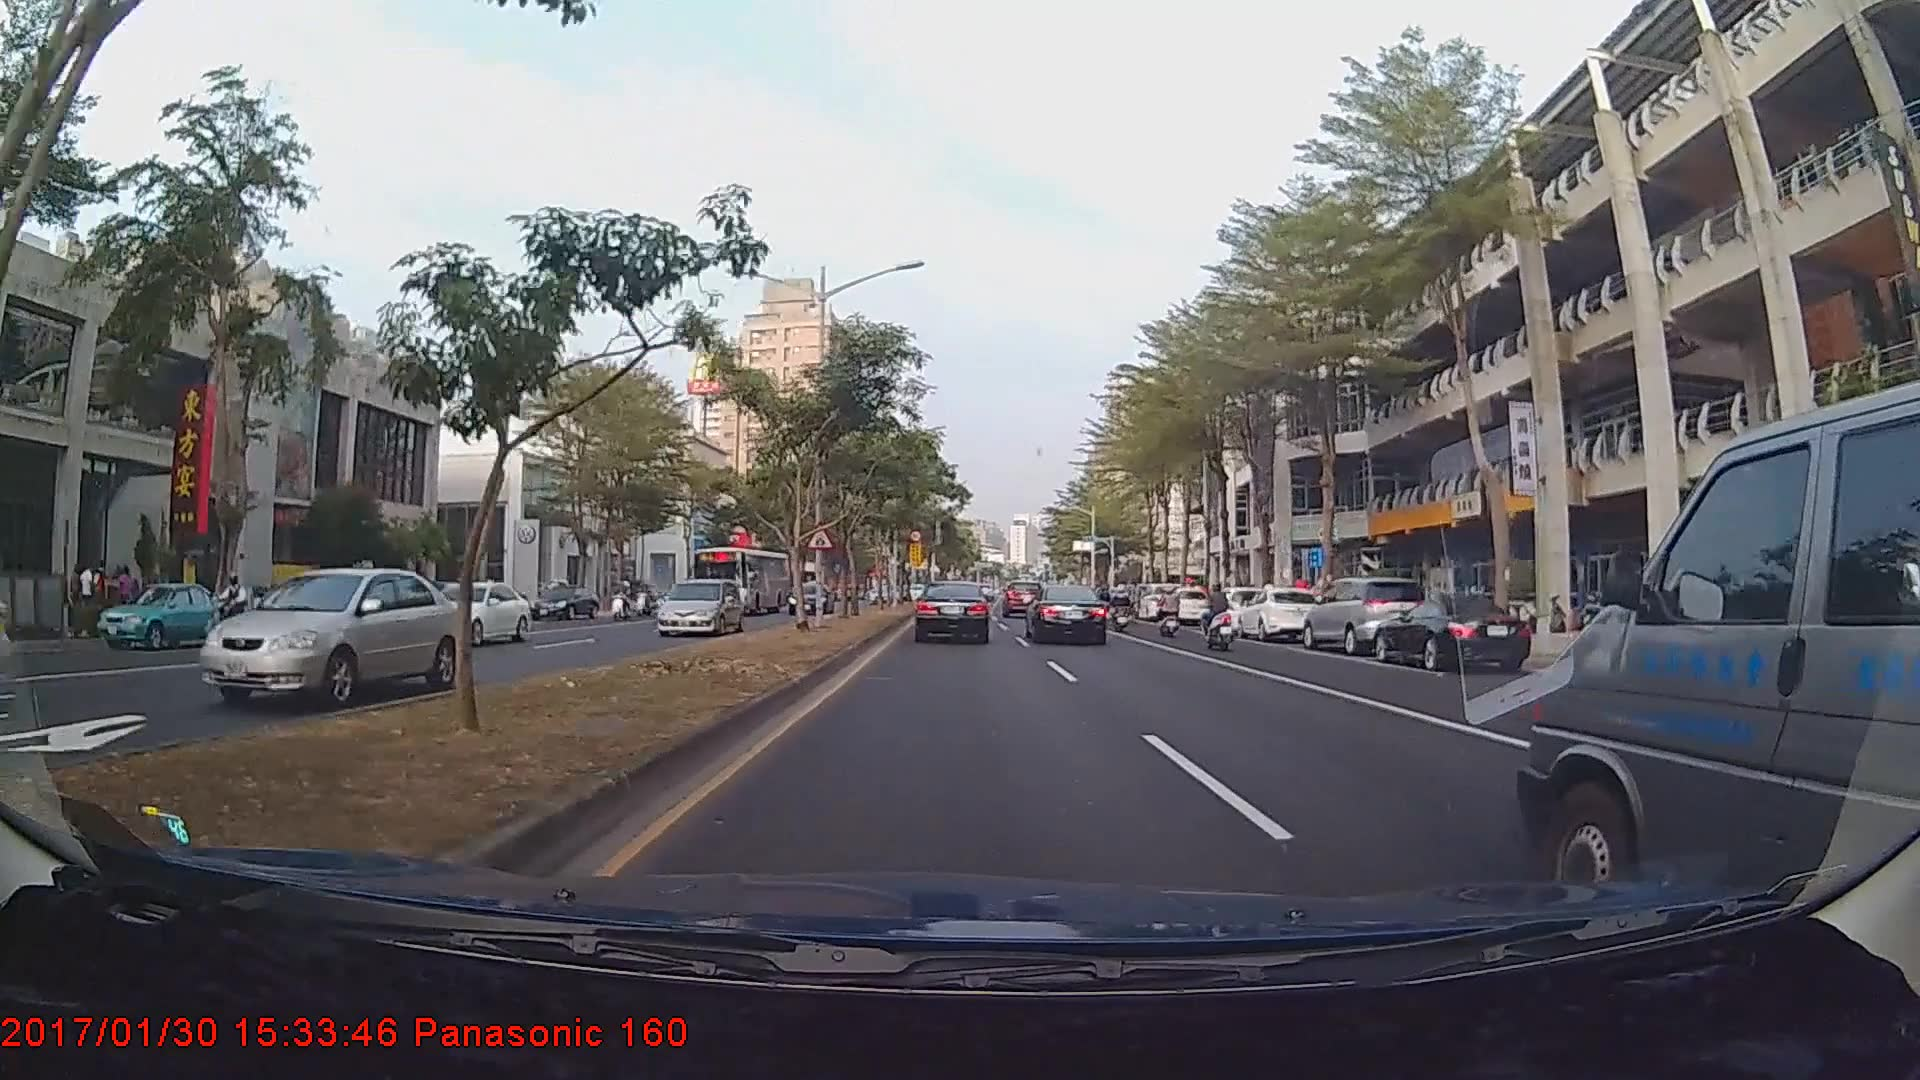rider: (202, 570, 260, 656), (1191, 582, 1243, 656), (1149, 582, 1190, 646), (1109, 585, 1134, 638)
vehicle: (1540, 401, 1915, 885), (198, 568, 460, 708), (1372, 595, 1536, 673), (1301, 572, 1432, 655), (94, 581, 230, 649), (403, 579, 530, 647), (694, 547, 788, 619), (654, 578, 744, 639), (1026, 583, 1109, 645), (913, 581, 992, 644), (1234, 585, 1324, 640), (1200, 586, 1269, 635), (1158, 587, 1210, 624), (1004, 576, 1046, 614), (784, 582, 830, 610)
